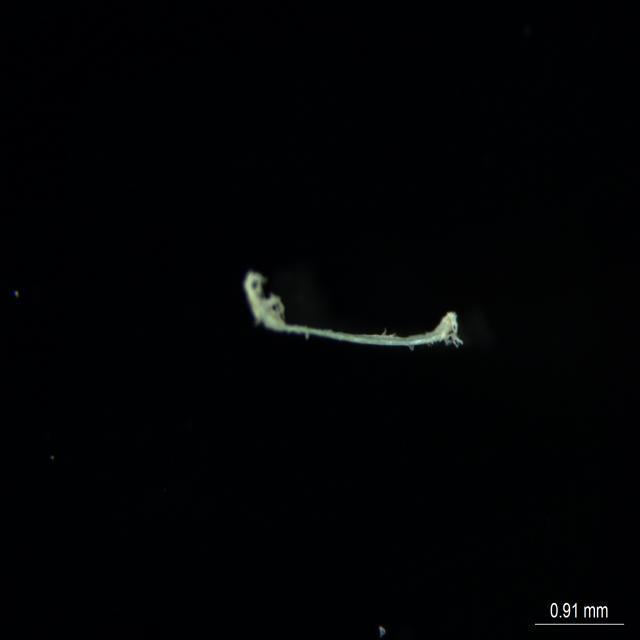fiber: (238, 260, 466, 369)
